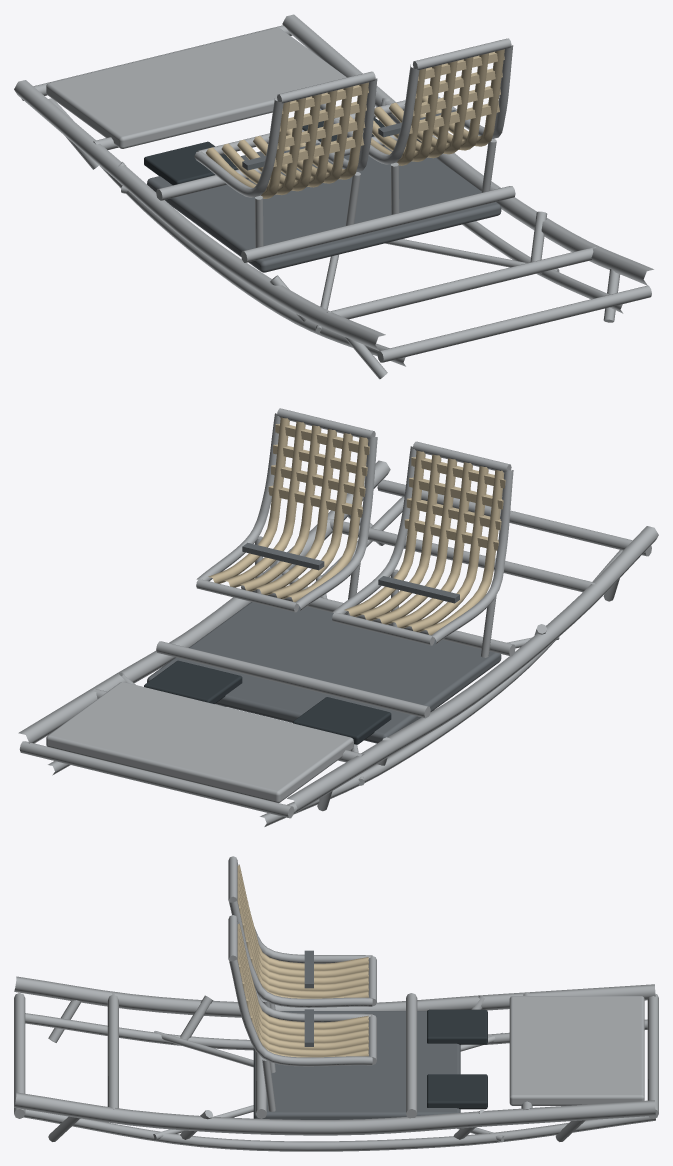
File: lunar-frame.glb
The picture shows the model from 3 angles, top to bottom: view 1: azimuth 30°, elevation 25°; view 2: azimuth 150°, elevation 25°; view 3: azimuth 270°, elevation 25°; orthographic projection. The views are drawn at different scales.
Size of the model in its own units: 1.33 by 0.9863 by 2.96.
